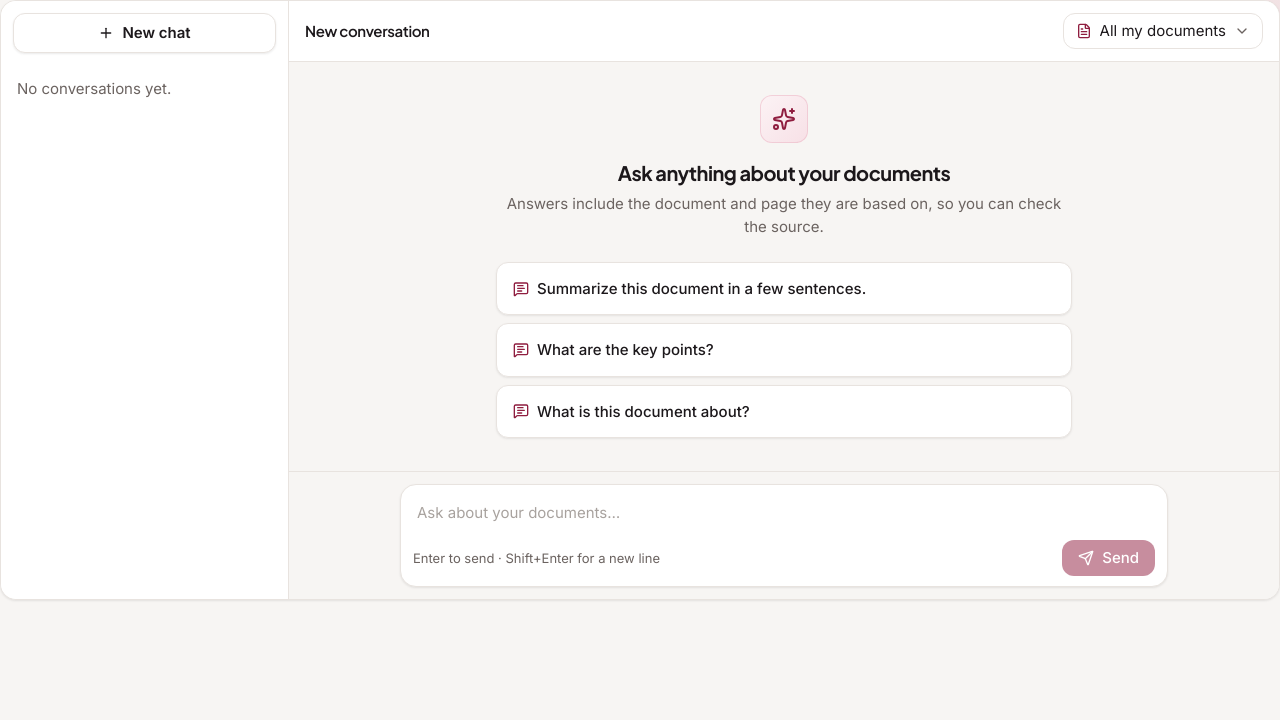
it: Assistant chat › marks a message as failed and allows retry
(page scrolled)
Type "Hello?" into the text box named "Ask a question about your documents" at x=784, y=512, box x1=409 y1=493 x2=1159 y2=532
Then press Enter
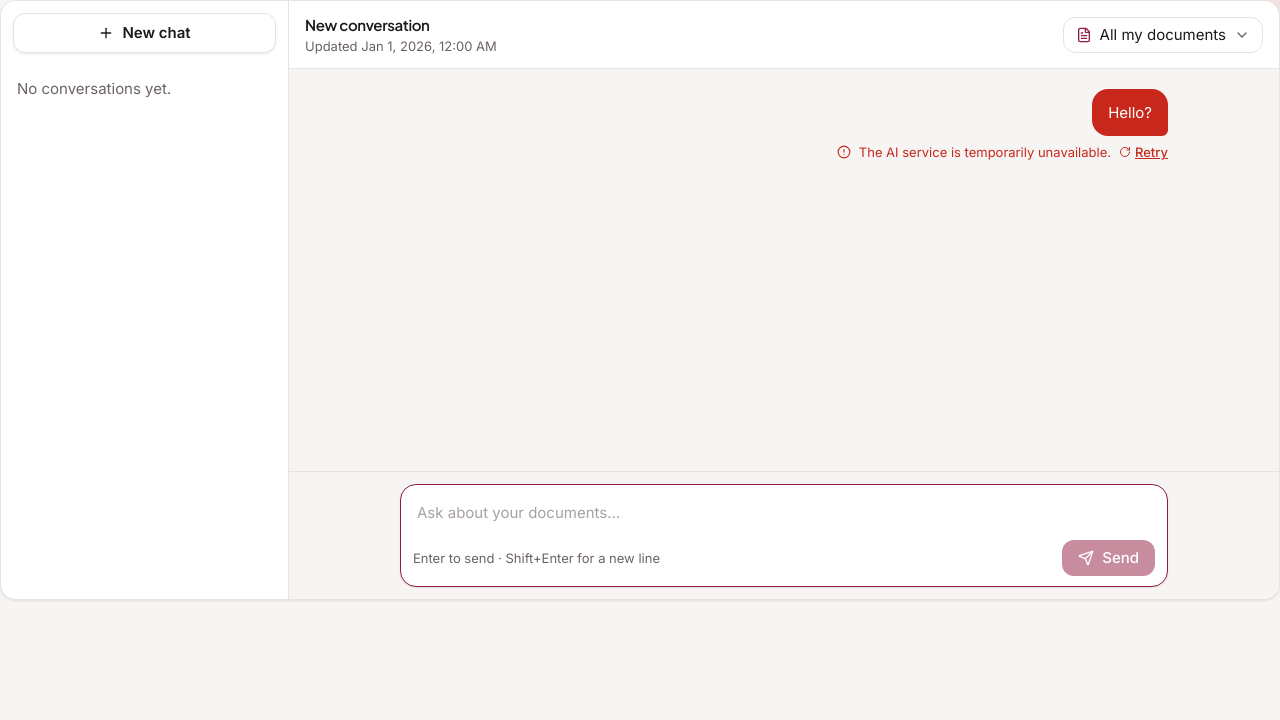
Expected: the text "The AI service is temporarily unavailable." is shown, x1=859 y1=142 x2=1111 y2=162
Click the button "Retry" at x=1144, y=152, box x1=1119 y1=142 x2=1168 y2=162
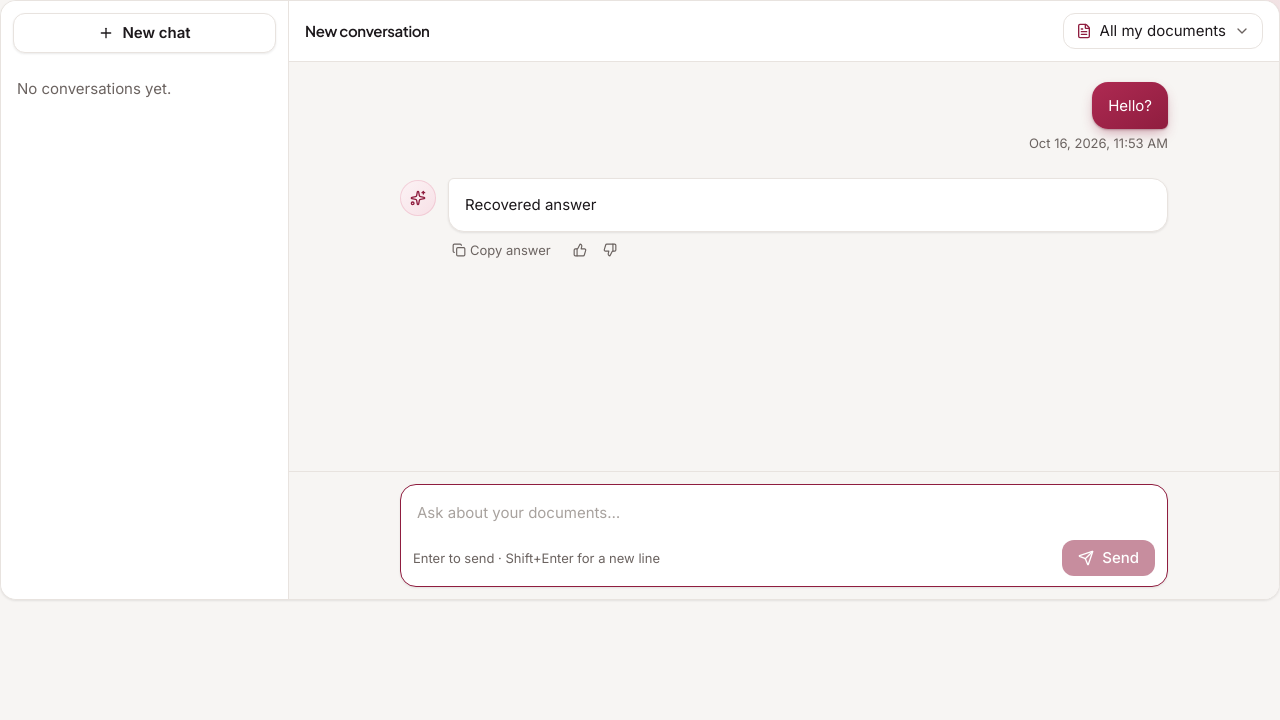
Expected: the text "Recovered answer" is shown, x1=465 y1=195 x2=596 y2=214
